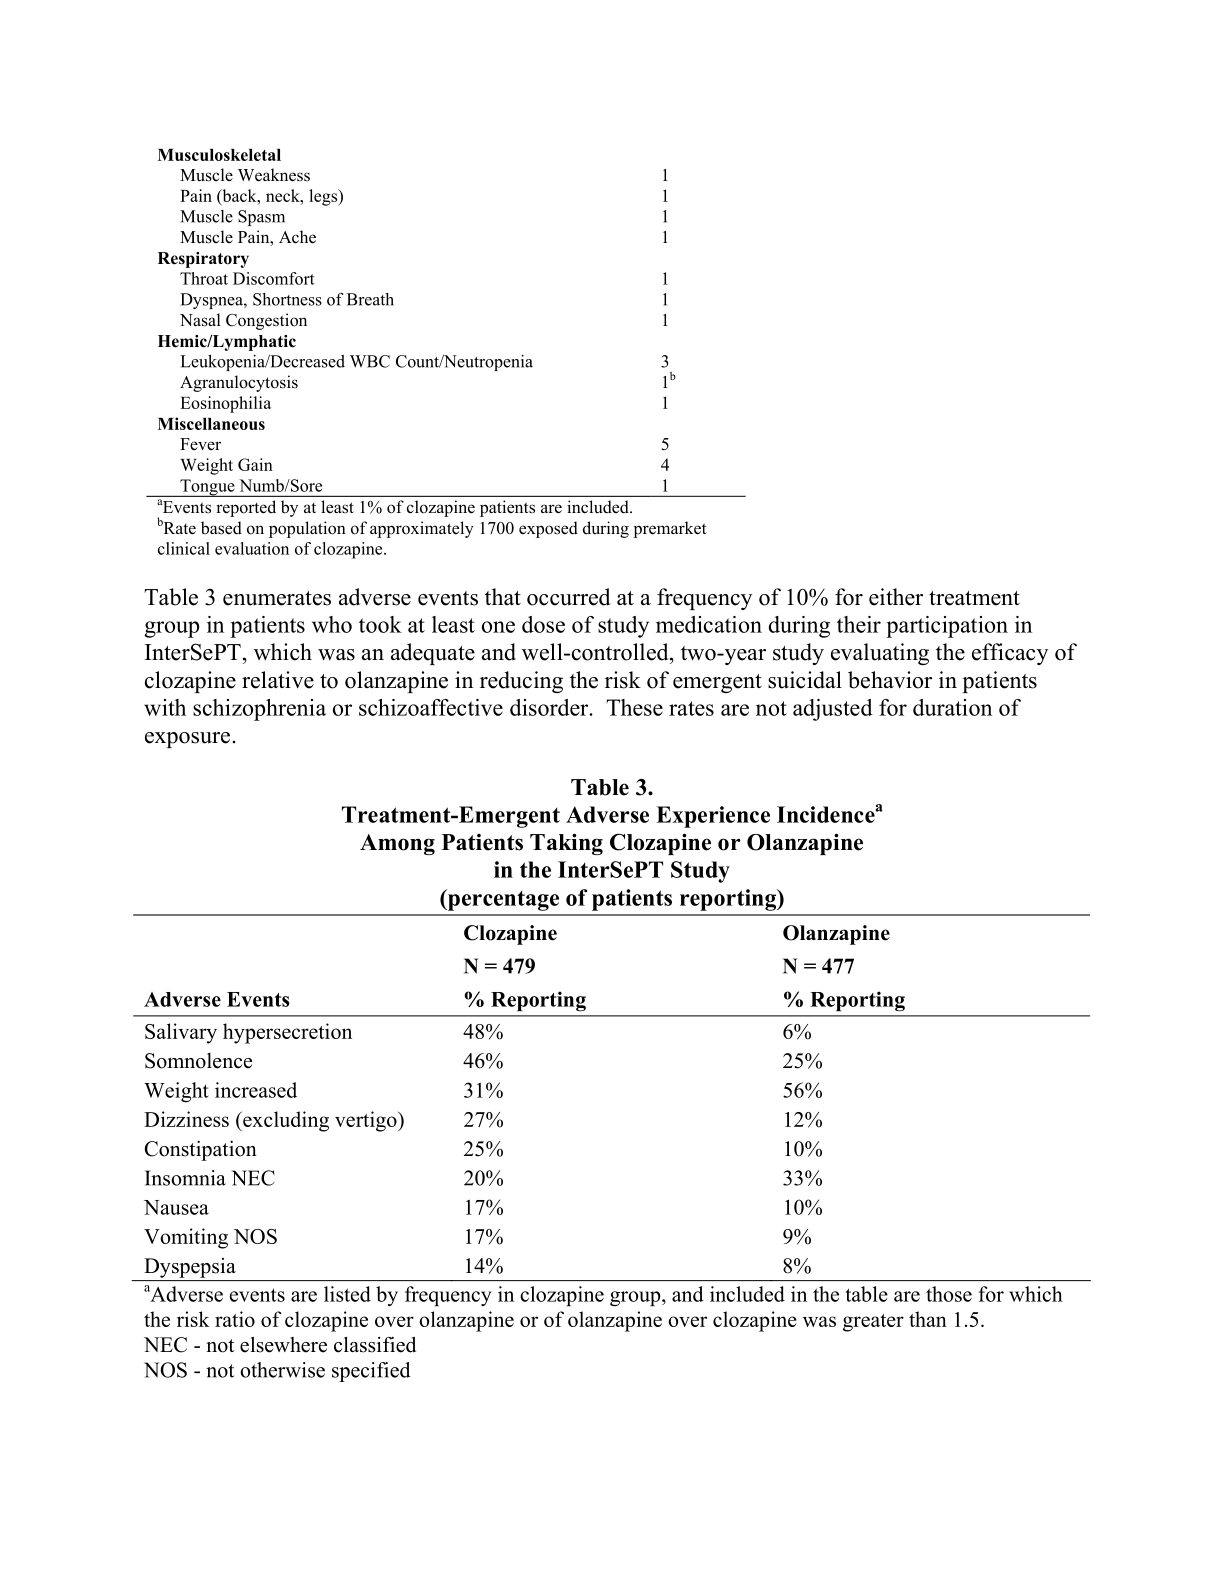partial_lined: (134, 909, 1088, 1284), (149, 144, 747, 498)
